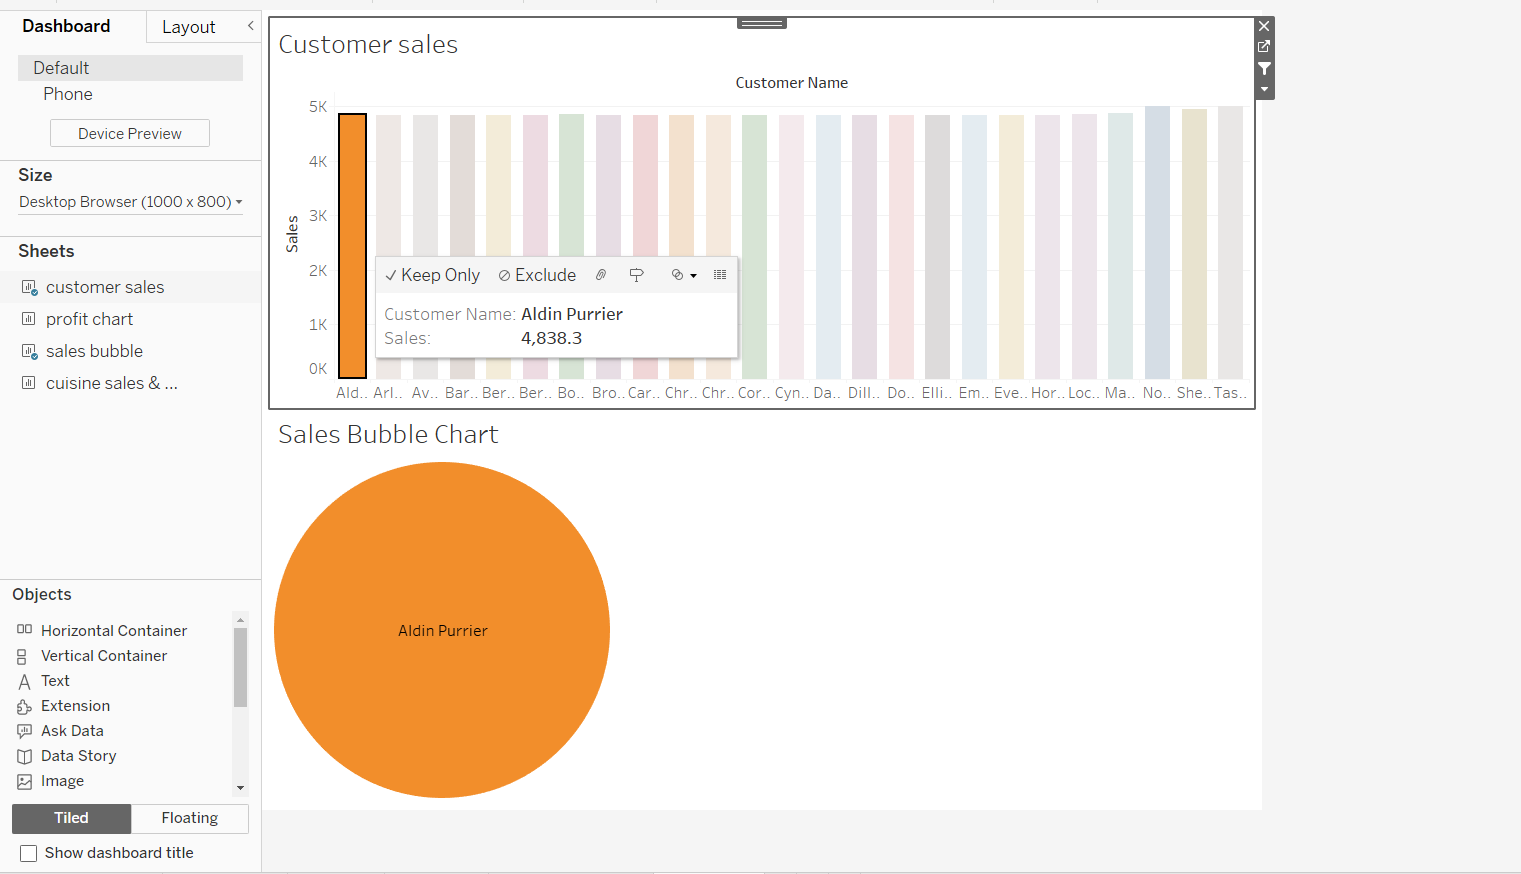

The dashboard page shown, as its layout file describes it:
{"tool":"tableau","page":{"name":"Dashboard","canvas":[1000,800],"ordinal":0},"visuals":[{"type":"worksheet","title":"customer sales","mark":"Automatic","rows":["Sales"],"cols":["Customer Name"],"box":[8,8,984,390.4]},{"type":"worksheet","title":"sales bubble","mark":"Circle","box":[8,398.4,984,393.6]}]}

Visuals, with their boxes on the page's 1000x800 design canvas (x1, y1, x2, y2). These are canvas units, not pixel positions in the 1521x874 screenshot, which may show the page scaled, cropped or inside an application window:
"customer sales" worksheet: BBox(8, 8, 992, 398)
"sales bubble" worksheet (Circle marks): BBox(8, 398, 992, 792)
